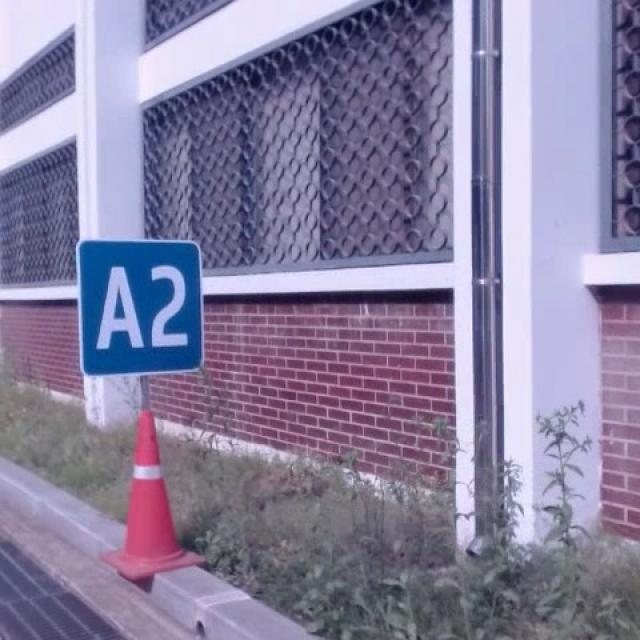a2: (73, 236, 208, 381)
